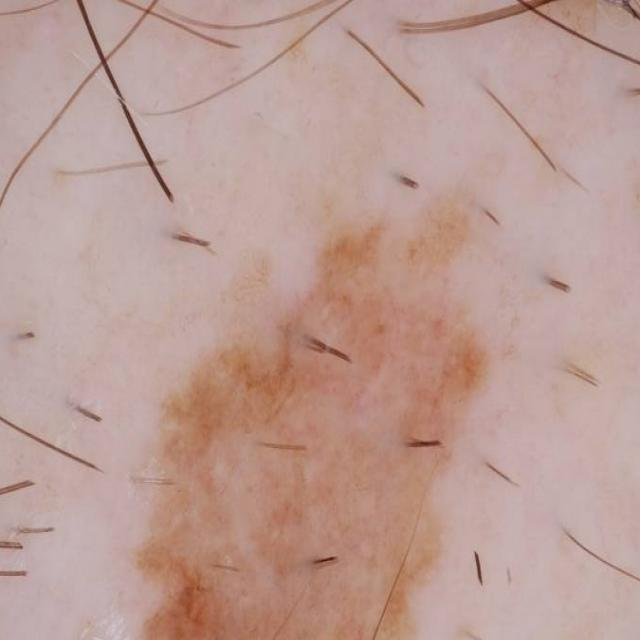Melanoma: (86, 178, 539, 640)
